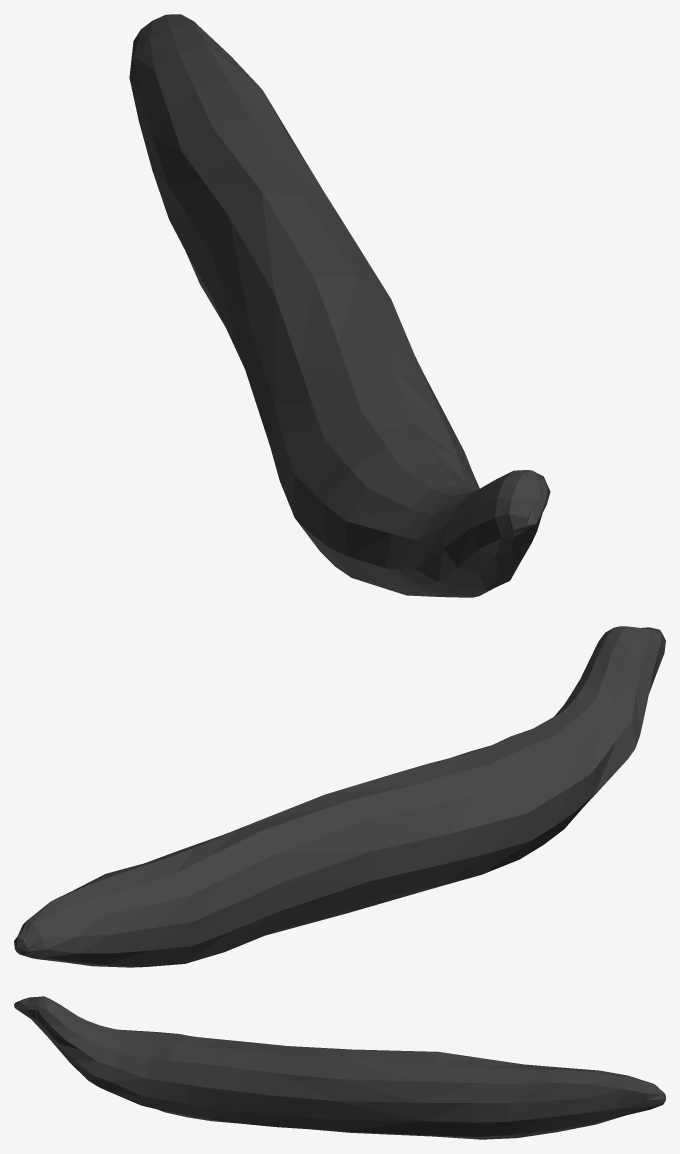
Rendered from FlexCarpRad_1.glb.
The picture shows the model from 3 angles, top to bottom: view 1: azimuth 30°, elevation 25°; view 2: azimuth 150°, elevation 25°; view 3: azimuth 270°, elevation 25°; orthographic projection. The views are drawn at different scales.
Parts seen in each view (by area): view 1: FlexCarpRad_1; view 2: FlexCarpRad_1; view 3: FlexCarpRad_1.
Boxes of the visible parts, x1,y1,x2,y2 form: FlexCarpRad_1: (129, 14, 550, 597); FlexCarpRad_1: (14, 626, 665, 967); FlexCarpRad_1: (14, 996, 665, 1139).
Bounding box in the file's own units: 0.00621 × 0.00383 × 0.0205.
Materials: 1 (1 with a texture image).
